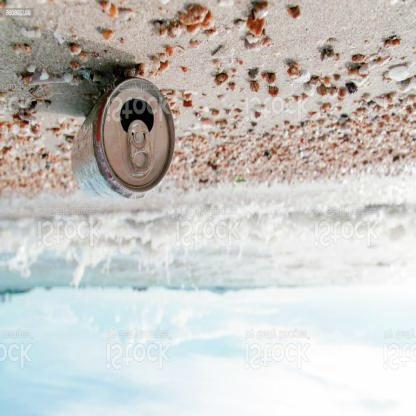Metal: (68, 72, 178, 206)
